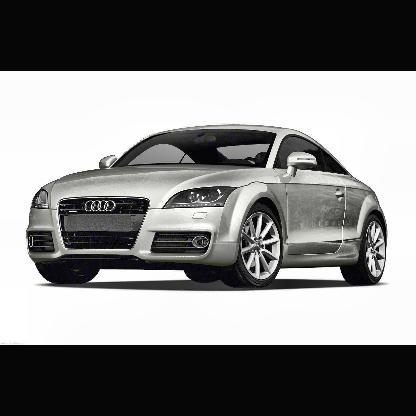Audi TT Hatchback 2011: (29, 124, 388, 286)
